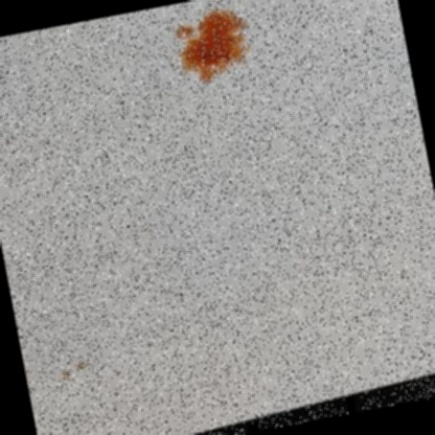kimchi: (163, 4, 260, 96)
